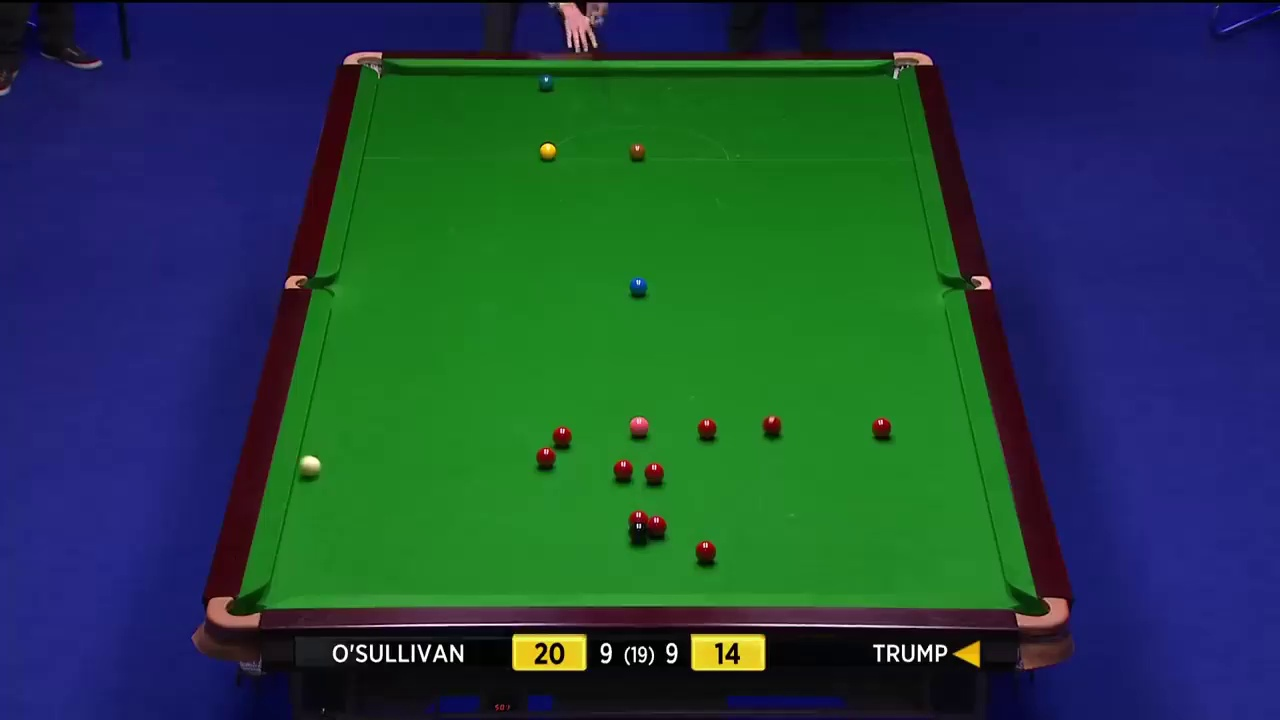ball: (300, 450, 325, 478), (627, 413, 652, 438), (536, 138, 559, 164), (694, 540, 716, 564), (533, 447, 558, 468), (869, 415, 891, 438), (641, 460, 663, 483), (629, 521, 648, 546), (762, 412, 779, 438), (696, 419, 716, 441), (613, 460, 633, 482), (630, 276, 649, 299), (629, 137, 645, 160), (537, 71, 554, 91)
